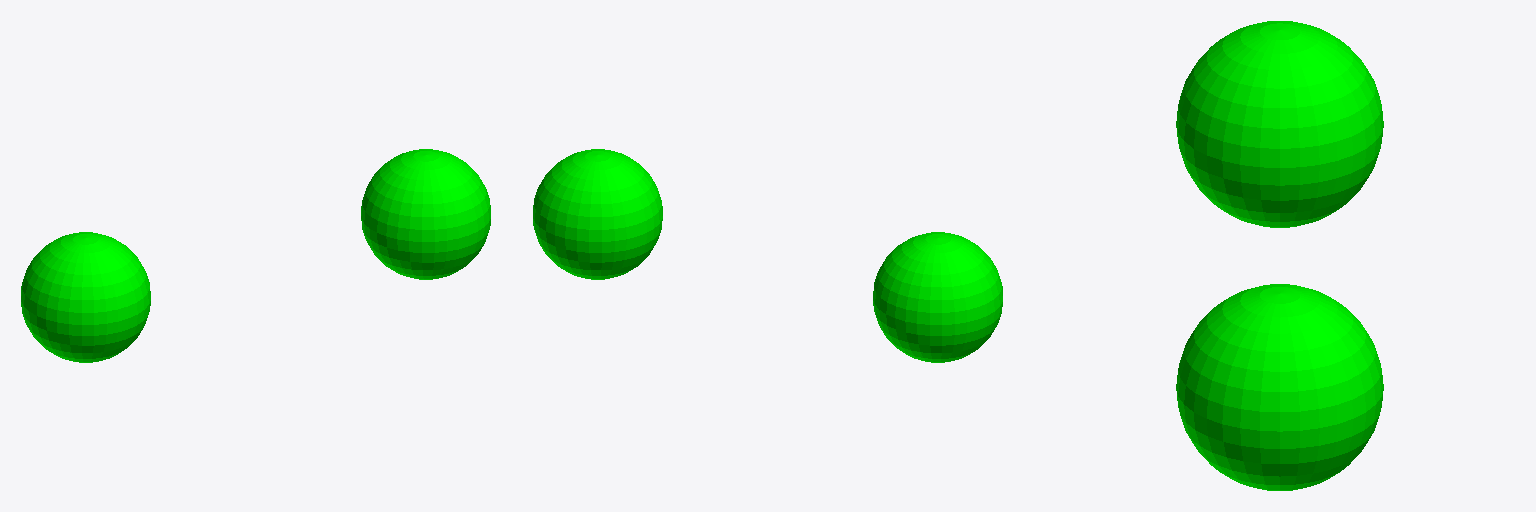
robot.urdf — blob001:
<robot name="blob001">
  <link name="random_obj_001">
    <contact>
      <lateral_friction value="1.0"/>
      <rolling_friction value="0.0"/>
      <inertia_scaling value="3.0"/>
      <contact_cfm value="0.0"/>
      <contact_erp value="1.0"/>
    </contact>
    <inertial>
      <origin rpy="0 0 0" xyz="0 0 0"/>
      <mass value="0.1"/>
      <inertia ixx="1" ixy="0" ixz="0" iyy="1" iyz="0" izz="0"/>
    </inertial>
    <visual>
      <origin rpy="0 0 0" xyz="0 0 0"/>
      <geometry>
        <mesh filename="001.obj" scale="0.015 0.015 0.015"/>
      </geometry>
      <material name="blockmat">
        <color rgba="0.38 0.01 0.07 1"/>
      </material>
    </visual>
    <collision>
      <origin rpy="0 0 0" xyz="0 0 0"/>
      <geometry>
        <mesh filename="001.obj" scale="0.015 0.015 0.015"/>
      </geometry>
    </collision>
  </link>
  <link name="Sphere1">
    <visual>
	<origin rpy="0 0 0" xyz="0 0 0"/>
      <geometry>
        <sphere radius="0.01"/>
      </geometry>
      <material name="green">
            <color rgba="0 1 0 1"/>
      </material>
    </visual>
  </link>
  
  <joint name="m1" type="fixed">
    <origin rpy="0 0 0" xyz="0.03 -0.0125 0"/>
    <parent link="random_obj_001"/>
    <child link="Sphere1"/>
    <axis xyz="0 0 1"/>
  </joint>
  
  <link name="Sphere2">
    <visual>
	<origin rpy="0 0 0" xyz="0 0 0"/>
      <geometry>
        <sphere radius="0.01"/>
      </geometry>
      <material name="green">
            <color rgba="0 1 0 1"/>
      </material>
    </visual>
  </link>
  <joint name="m2" type="fixed">
    <origin rpy="0 0 0" xyz="-0.03 -0.0125 0"/>
    <parent link="random_obj_001"/>
    <child link="Sphere2"/>
    <axis xyz="0 0 1"/>
  </joint>
</robot>

--- Render facts (derived) ---
Views: 3 orthographic renders of the robot side by side, from view 1: azimuth 30°, elevation 25°; view 2: azimuth 150°, elevation 25°; view 3: azimuth 270°, elevation 25°.
Model blob001 with 3 links and 2 joints (2 fixed), rooted at random_obj_001, posed all joints at 0.
Links seen in each view (by area): view 1: Sphere1, Sphere2; view 2: Sphere1, Sphere2; view 3: Sphere1, Sphere2.
Boxes of the visible links, left/top/right/bottom form: Sphere1: left=361, top=149, right=490, bottom=279; Sphere2: left=21, top=232, right=150, bottom=362; Sphere1: left=533, top=149, right=662, bottom=279; Sphere2: left=873, top=232, right=1002, bottom=362; Sphere1: left=1176, top=284, right=1383, bottom=490; Sphere2: left=1176, top=21, right=1383, bottom=227.
Size in the robot's own frame: 0.08 by 0.02 by 0.02 metres.
0 mesh visuals loaded from 1 distinct referenced files (none loaded); not drawn: 1 (reference not matched to a file when rendering).